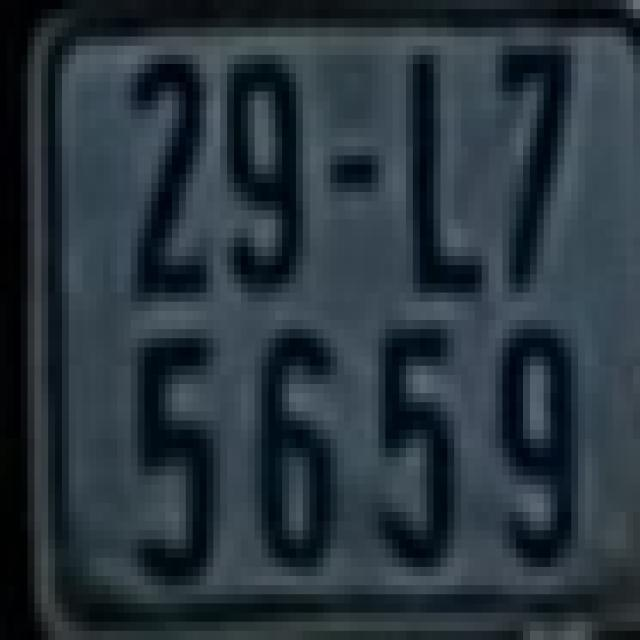2: (124, 55, 214, 302)
5: (130, 329, 220, 585), (378, 329, 454, 567)
6: (255, 329, 338, 567)
7: (496, 45, 572, 284)
9: (220, 55, 303, 292), (496, 329, 578, 567)
L: (406, 55, 489, 292)
